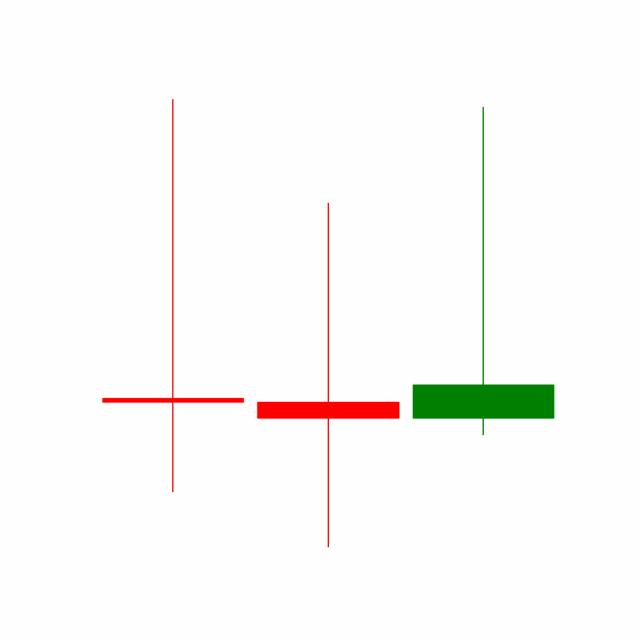Gravestone Doji: (405, 102, 561, 438)
